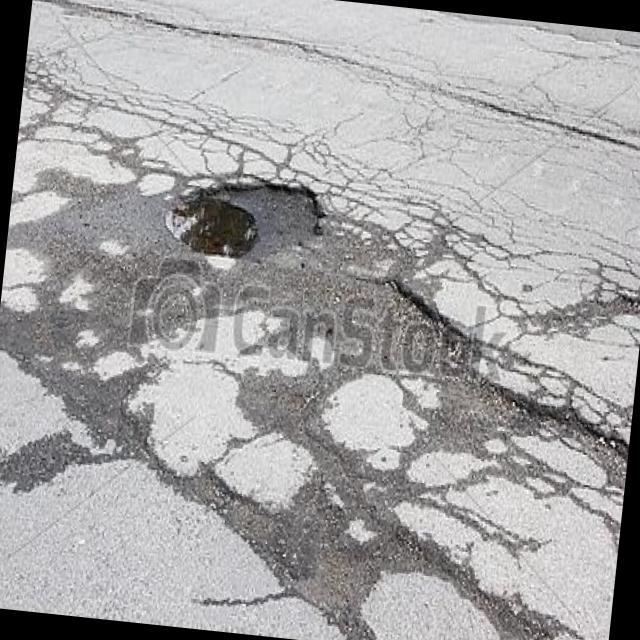Pothole: (314, 260, 491, 432), (160, 148, 334, 278)
